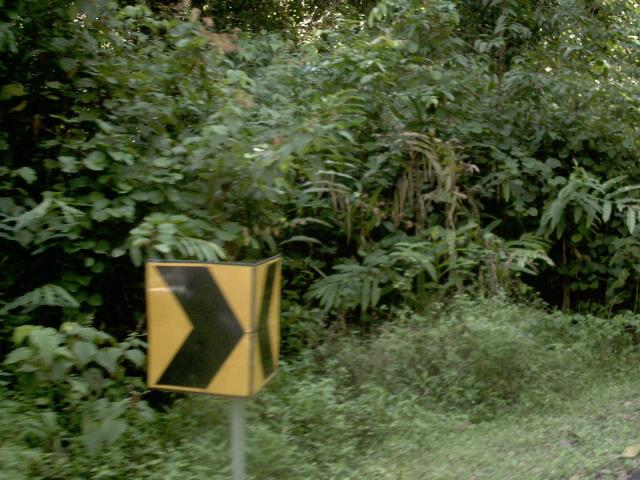traffic_sign: (118, 232, 284, 422)
